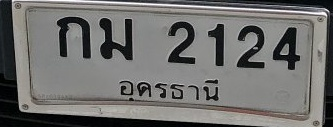txt01: (55, 15, 92, 60)
txt28: (97, 17, 135, 61)
